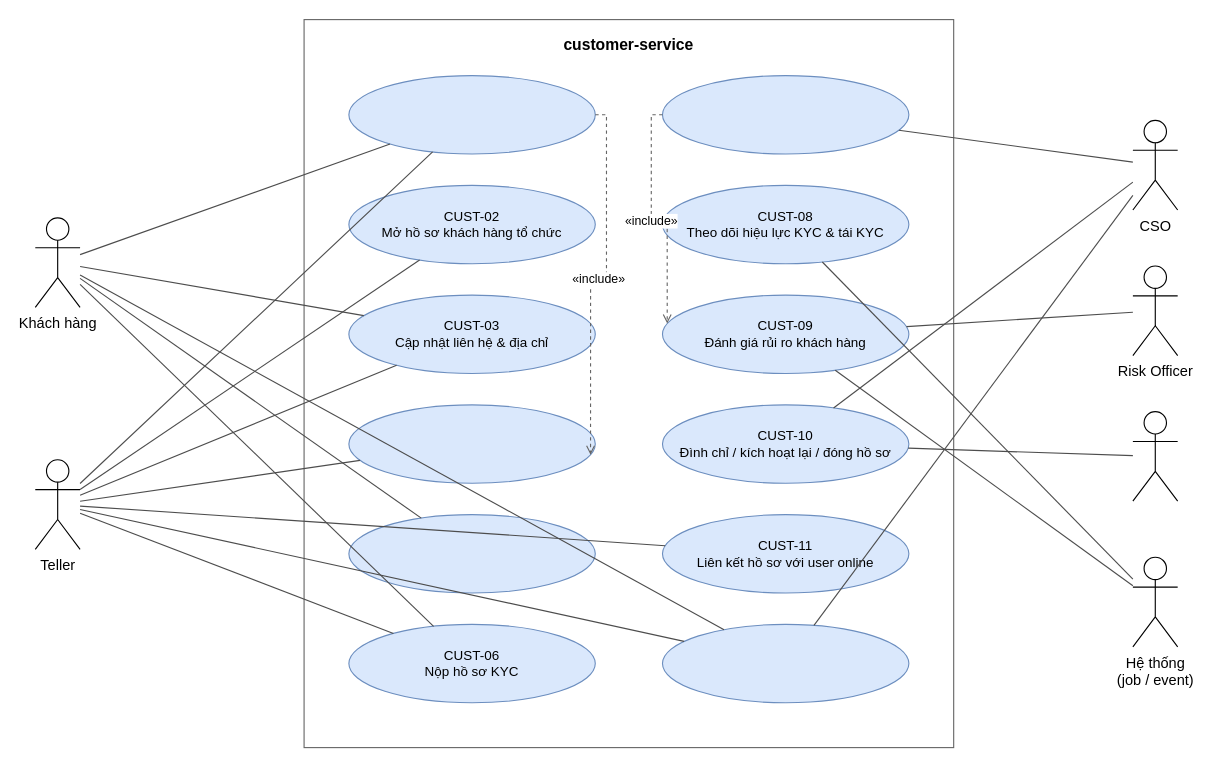
Image size: 1213x767. Some labels were removed from this diagram. Here are the shapes that lost their labels. From the top down, the centre of each, then its label:
At (471,114): "CUST-01 Mở hồ sơ khách hàng cá nhân".
At (785,114): "CUST-07 Thẩm định & phê duyệt KYC".
At (471,443): "CUST-04 Quản lý giấy tờ định danh".
At (1155,455): "Admin".
At (471,553): "CUST-05 Xác minh kênh liên hệ (OTP)".
At (785,663): "CUST-12 Tra cứu hồ sơ 360°".
